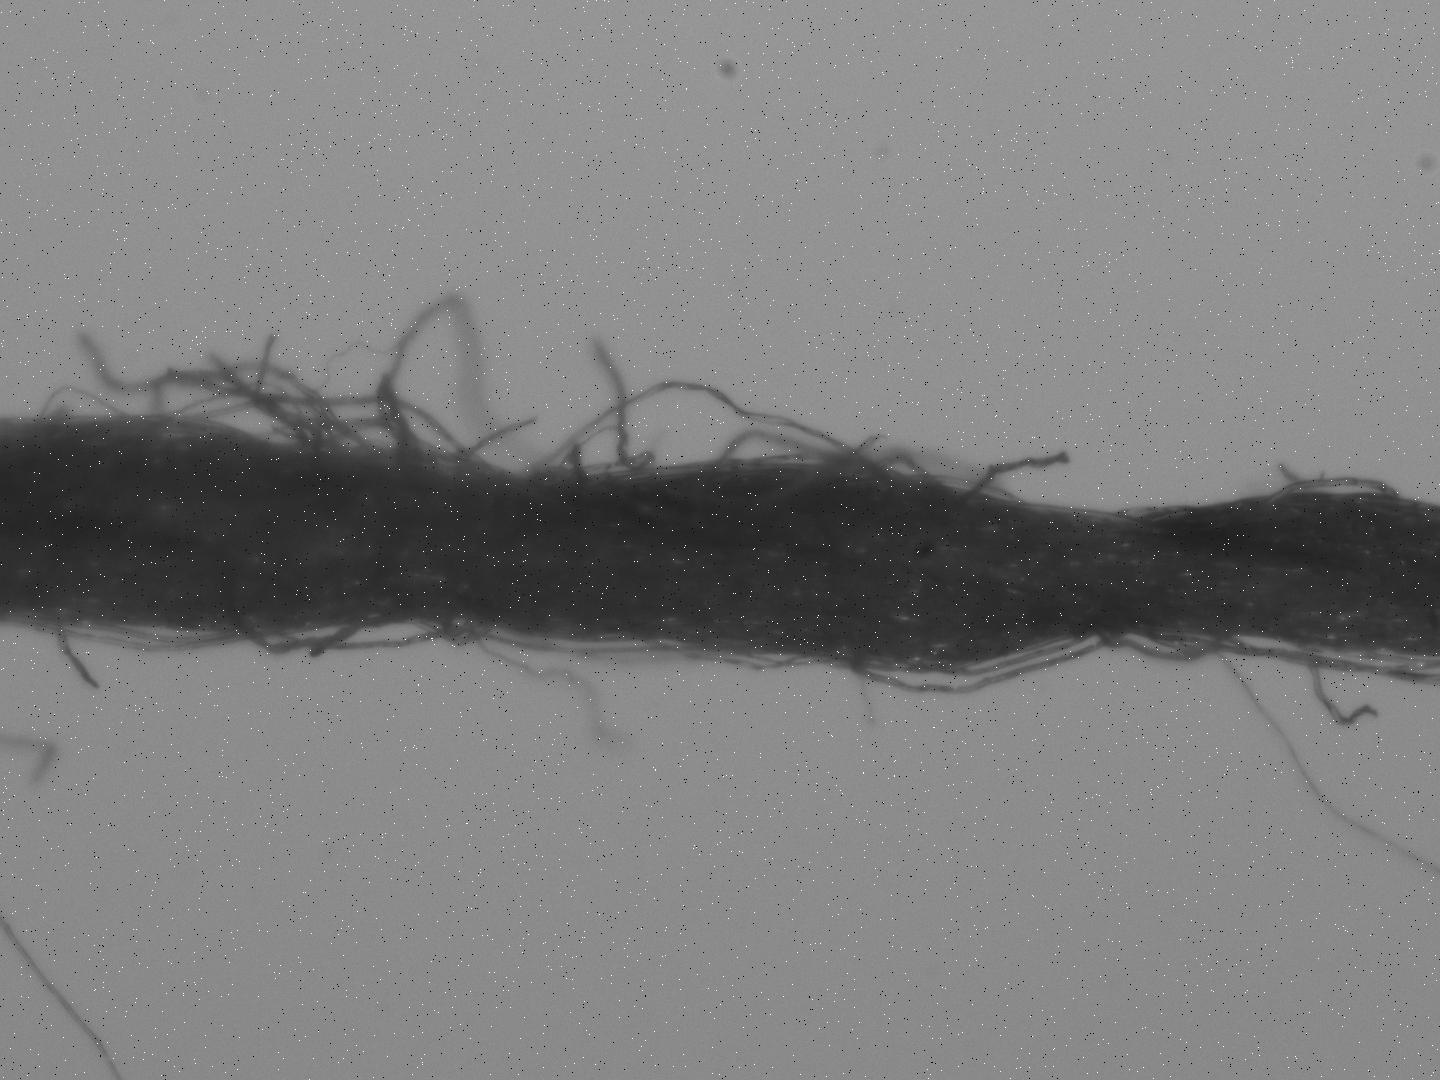loop_fiber: (528, 378, 879, 478), (196, 394, 472, 469), (852, 641, 1098, 695), (252, 618, 442, 659), (42, 615, 237, 652), (653, 638, 801, 673), (1104, 631, 1220, 661), (1269, 475, 1391, 499), (440, 614, 488, 646)
protruding_fiber: (1311, 643, 1384, 728), (964, 452, 1068, 498), (592, 336, 627, 465), (452, 417, 533, 458), (50, 626, 100, 689)
